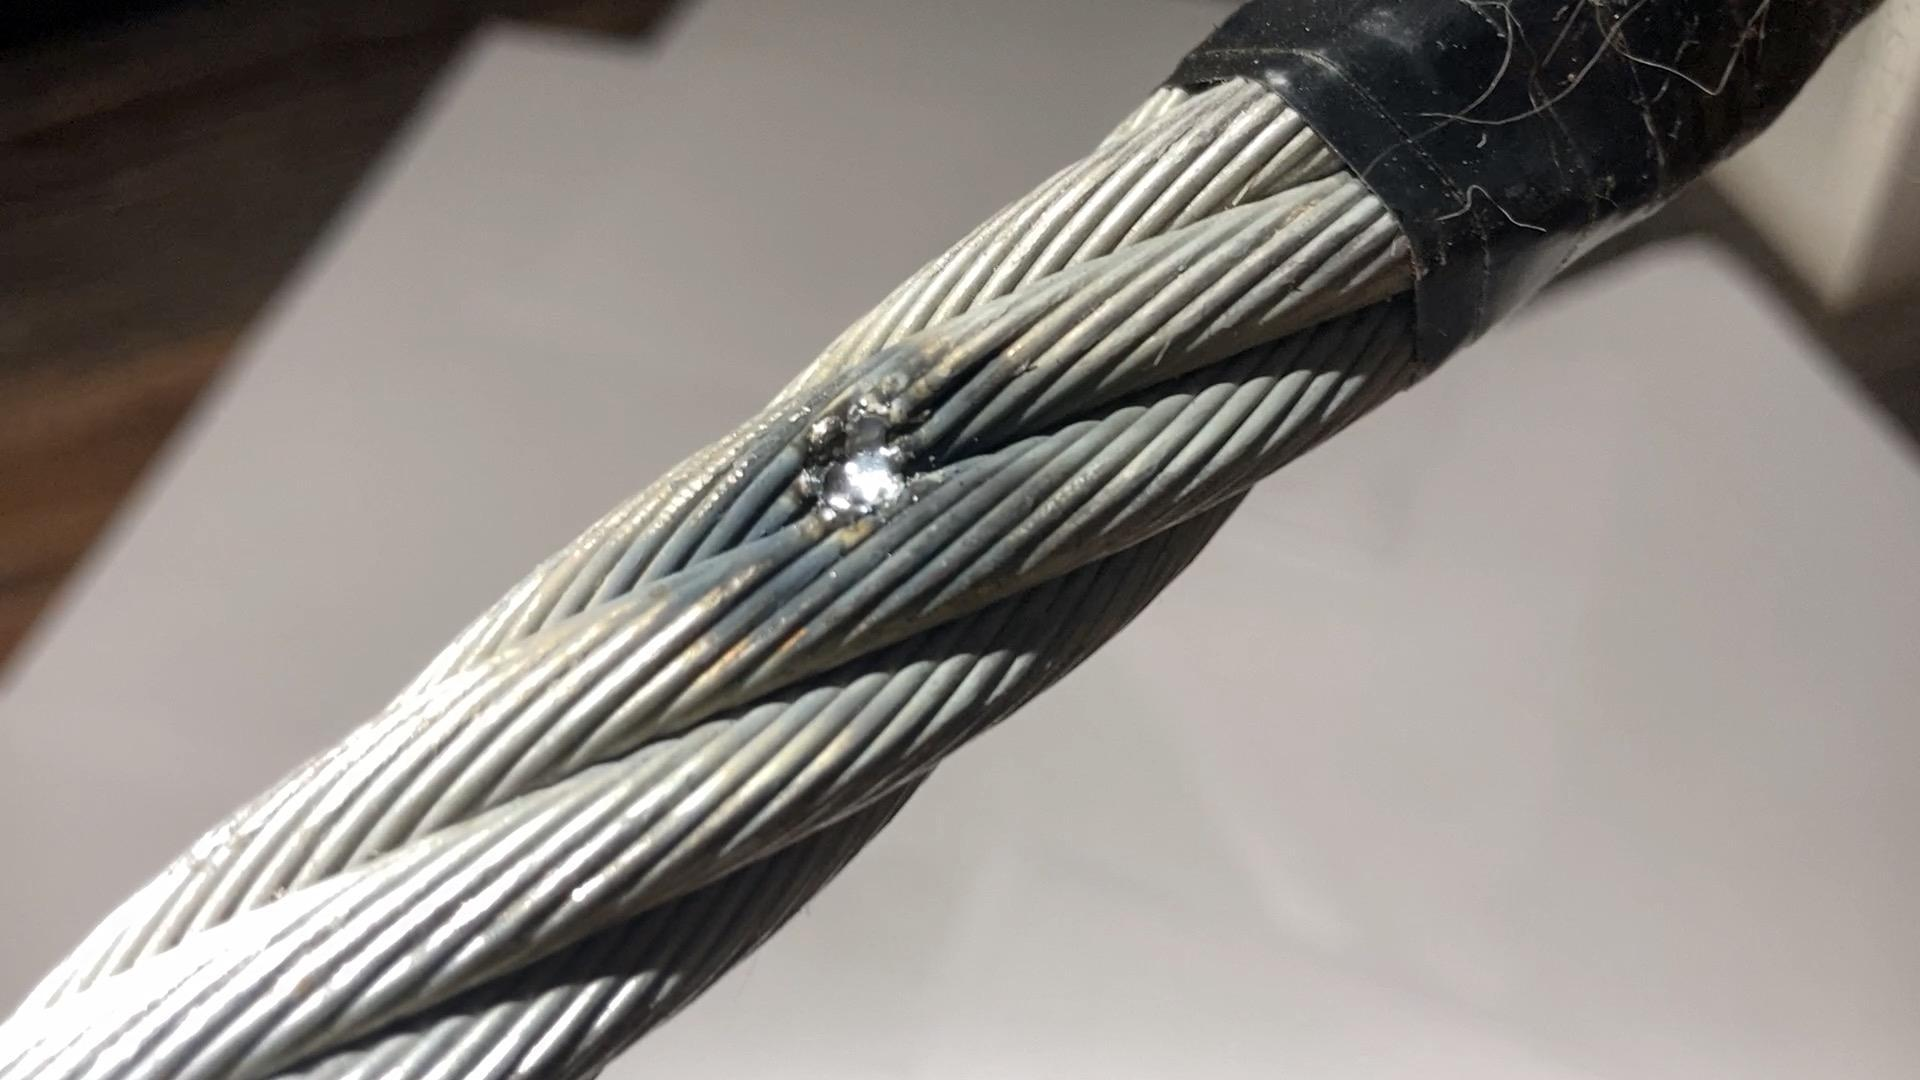thunderbolt: (778, 357, 944, 530)
